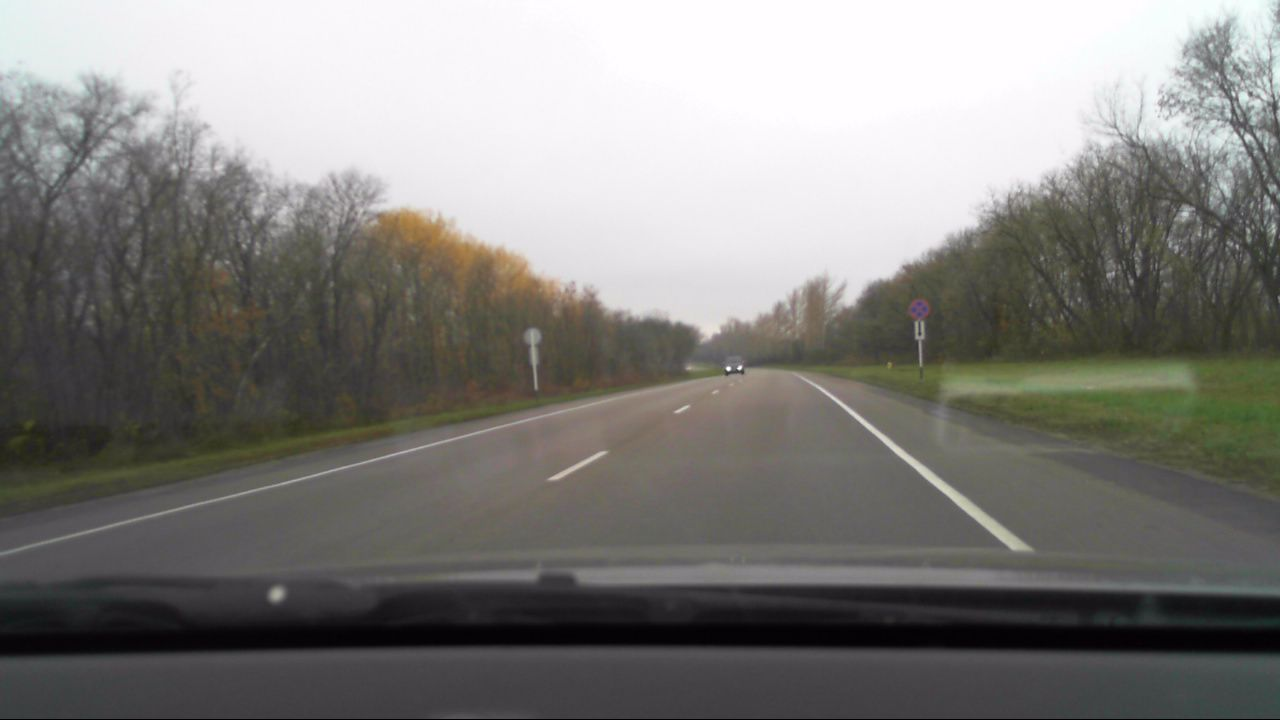No Parking: (906, 297, 930, 321)
